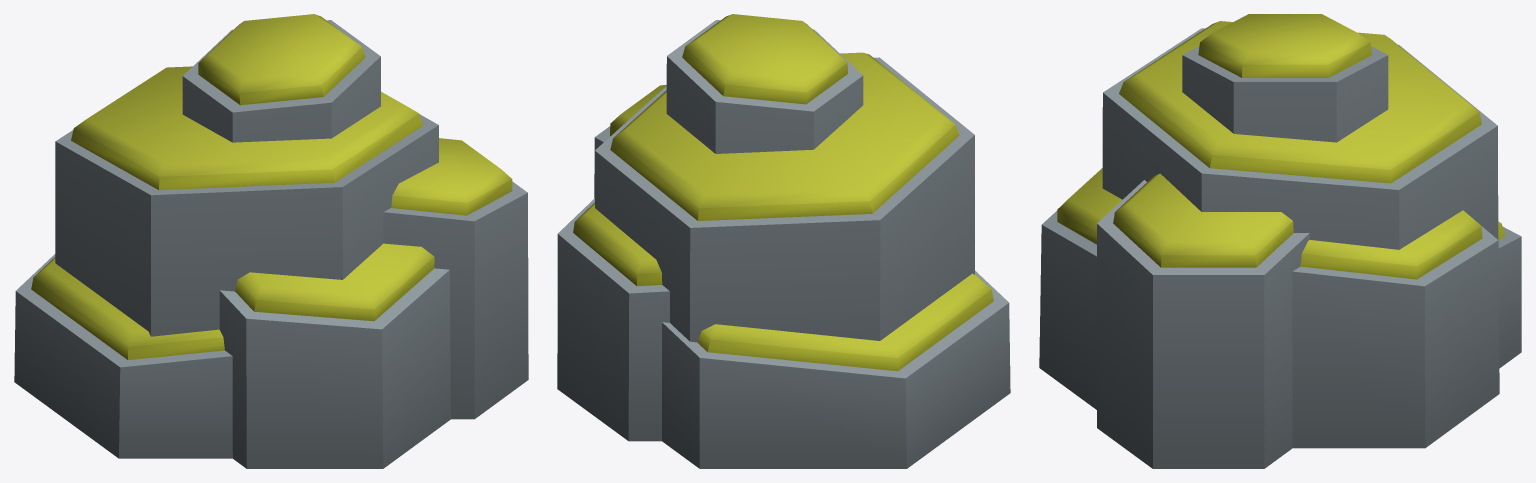
The model's file is mountain_grass.glb.
3 renders of one model, left to right at view 1: azimuth 30°, elevation 25°; view 2: azimuth 150°, elevation 25°; view 3: azimuth 270°, elevation 25°, orthographic. The views are drawn at different scales.
Visible parts, largest first — view 1: mountain_A_grass; view 2: mountain_A_grass; view 3: mountain_A_grass.
Part boxes in pixels (left/top/right/bottom): mountain_A_grass: left=14, top=14, right=528, bottom=468; mountain_A_grass: left=557, top=14, right=1010, bottom=468; mountain_A_grass: left=1039, top=14, right=1521, bottom=468.
Size of the model in its own units: 1.8 by 1.5 by 1.88.
Materials: 1 (1 with a texture image).
